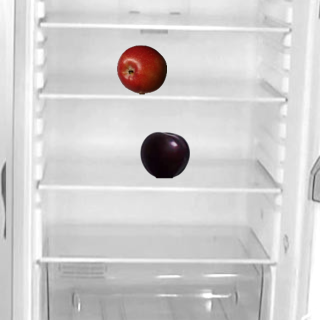Apple Braeburn: (116, 44, 166, 94)
Cherry Wax Black: (139, 129, 189, 179)
